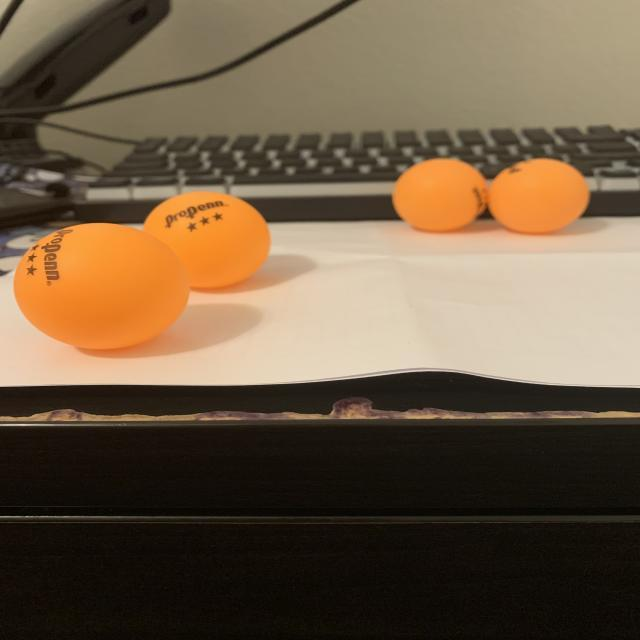ping-pong-ball: (8, 216, 200, 354), (140, 188, 276, 292), (486, 154, 591, 236), (386, 154, 490, 234)
